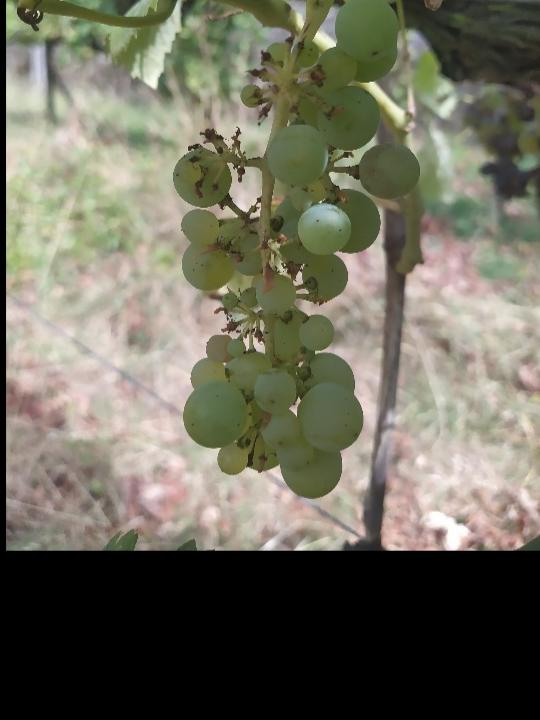grape: (168, 0, 425, 503)
